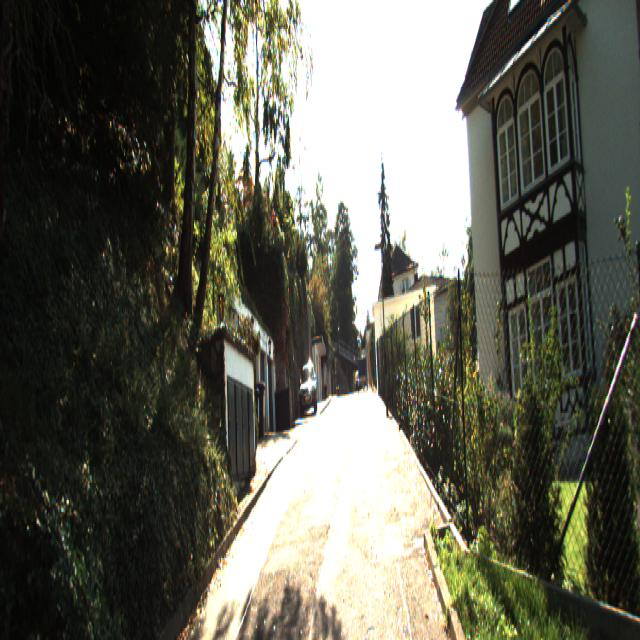Car: (300, 363, 316, 417)
